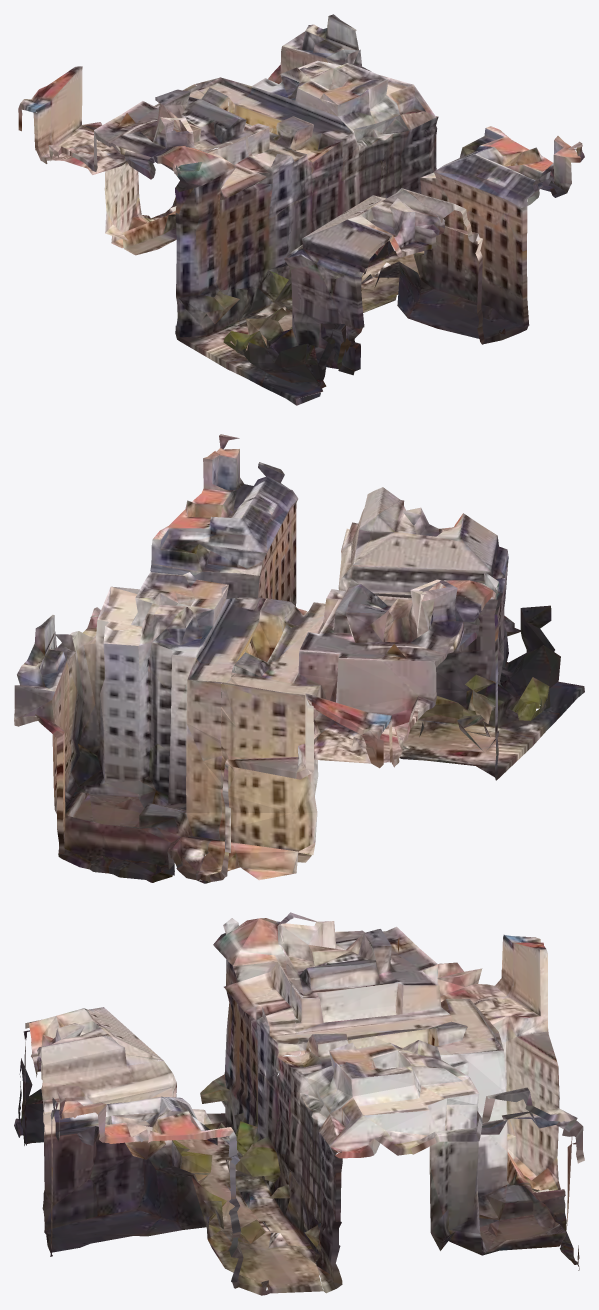
3 renders of one model, top to bottom at view 1: azimuth 30°, elevation 25°; view 2: azimuth 150°, elevation 25°; view 3: azimuth 270°, elevation 25°, orthographic. The views are drawn at different scales.
Parts seen in each view (by area): view 1: Mesh_0; view 2: Mesh_0; view 3: Mesh_0.
Part boxes in pixels (x1,y1,x2,y2): Mesh_0: [18, 14, 584, 405]; Mesh_0: [14, 434, 584, 883]; Mesh_0: [14, 912, 584, 1295].
Size of the model in its own units: 68.06 by 38.54 by 82.63.
1 material, 1 textured.
